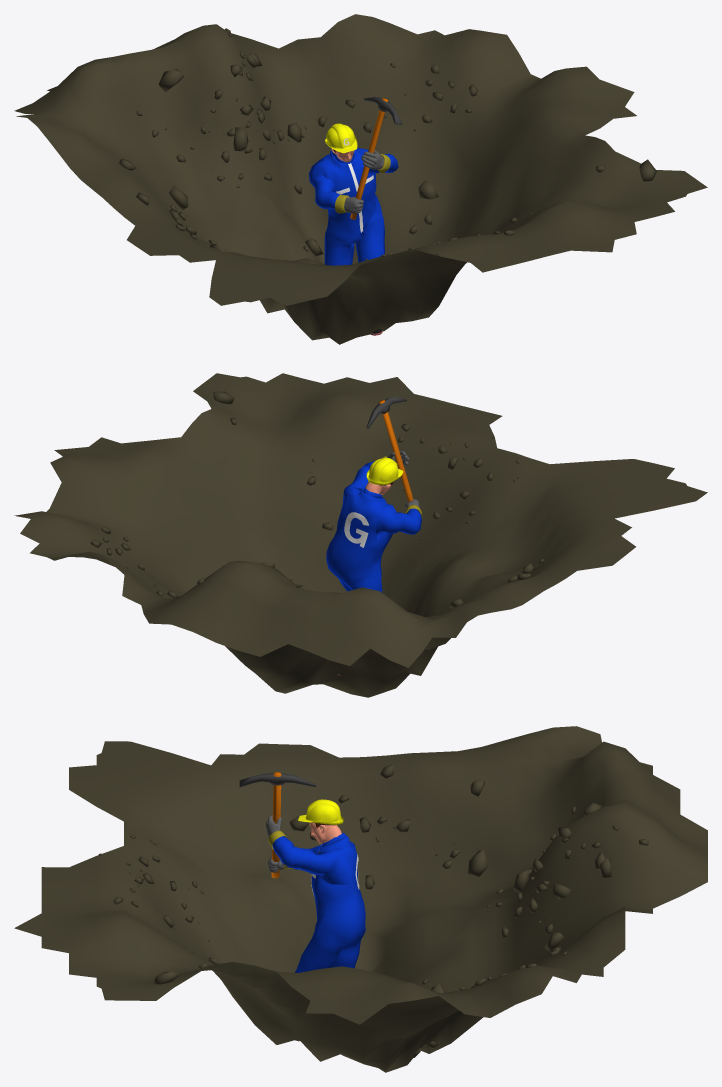
3 views of the same model, one above another, from view 1: azimuth 30°, elevation 25°; view 2: azimuth 150°, elevation 25°; view 3: azimuth 270°, elevation 25° (orthographic). The views are drawn at different scales.
Visible parts, largest first — view 1: SketchUp (×4); view 2: SketchUp (×4); view 3: SketchUp (×4).
Boxes of the visible parts, bbox=[...] form: SketchUp (×4): bbox=[14, 14, 707, 344]; SketchUp (×4): bbox=[14, 373, 707, 697]; SketchUp (×4): bbox=[14, 726, 707, 1072].
Size of the model in its own units: 2989 by 3112 by 1406.
